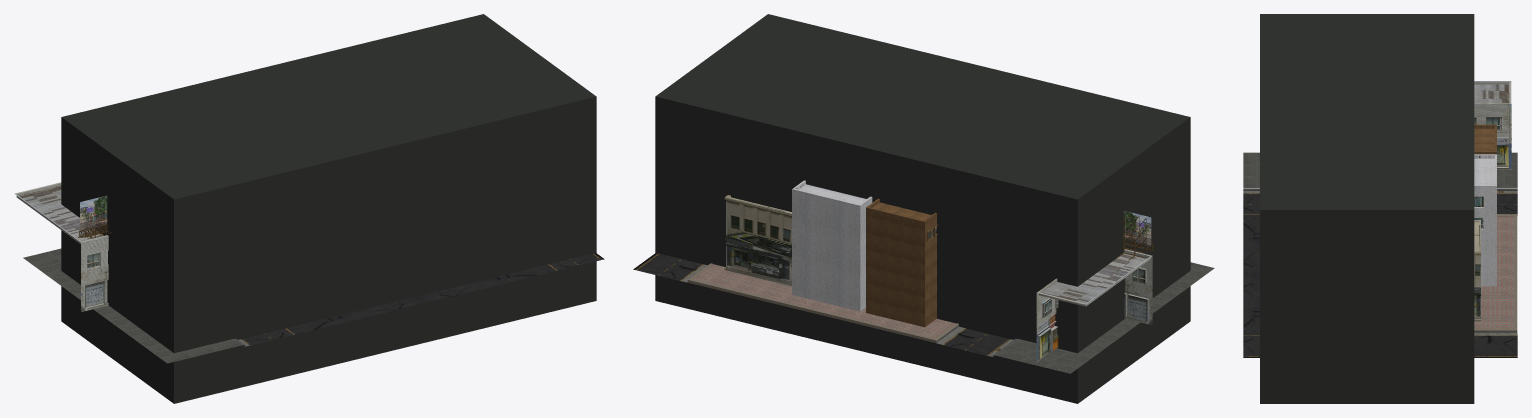
File: seoul_city__gameready__render__blender__pbr.glb
The picture shows the model from 3 angles, left to right: view 1: azimuth 30°, elevation 25°; view 2: azimuth 150°, elevation 25°; view 3: azimuth 270°, elevation 25°; orthographic projection. The views are drawn at different scales.
Parts seen in each view (by area): view 1: Object_209, Object_40, Object_73, Object_82, Object_84, Object_172; view 2: Object_209, Object_36, Object_27, Object_21, Object_38, Object_73, Object_82, Object_40, Object_84, Object_97, Object_172, Object_83 (+1 smaller); view 3: Object_209, Object_40, Object_38, Object_36, Object_82, Object_73, Object_84, Object_27, Object_21, Object_97, Object_83, Object_74.
Boxes of the visible parts, x1,y1,x2,y2 form: Object_209: [61, 14, 596, 403]; Object_40: [242, 253, 604, 345]; Object_73: [23, 248, 242, 363]; Object_82: [14, 182, 108, 311]; Object_84: [20, 186, 103, 241]; Object_172: [80, 195, 107, 231]; Object_209: [655, 14, 1190, 403]; Object_36: [792, 180, 872, 311]; Object_27: [866, 198, 937, 327]; Object_21: [724, 195, 791, 286]; Object_38: [692, 264, 955, 338]; Object_73: [995, 262, 1214, 373]; Object_82: [1036, 249, 1152, 361]; Object_40: [633, 253, 1009, 355]; Object_84: [1042, 253, 1146, 303]; Object_97: [687, 263, 958, 342]; Object_172: [1123, 211, 1151, 246]; Object_83: [1038, 269, 1144, 359]; Object_209: [1260, 14, 1474, 403]; Object_40: [1243, 193, 1517, 357]; Object_38: [1474, 216, 1514, 328]; Object_36: [1474, 154, 1496, 286]; Object_82: [1474, 81, 1511, 169]; Object_73: [1243, 152, 1517, 187]; Object_84: [1474, 84, 1509, 103]; Object_27: [1474, 124, 1496, 154]; Object_21: [1474, 220, 1480, 321]; Object_97: [1474, 215, 1517, 330]; Object_83: [1474, 117, 1508, 166]; Object_74: [1243, 191, 1517, 335].
Size of the model in its own units: 18.2 by 7.89 by 10.11.
52 materials, 52 textured.
